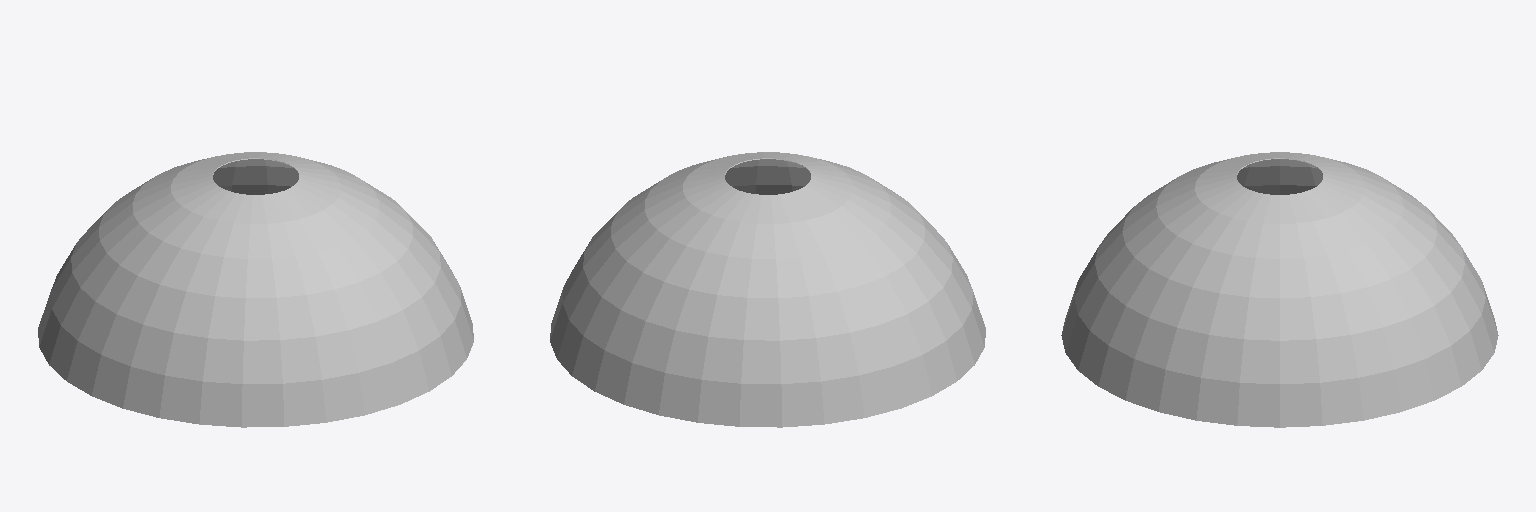
File: parachute_1m_simple.obj
The picture shows the model from 3 angles: view 1: azimuth 30°, elevation 25°; view 2: azimuth 150°, elevation 25°; view 3: azimuth 270°, elevation 25°; orthographic projection.
Visible parts, largest first — view 1: Sphere; view 2: Sphere; view 3: Sphere.
Part boxes in pixels (x1,y1,x2,y2): Sphere: (38, 152, 473, 427); Sphere: (550, 152, 985, 427); Sphere: (1061, 152, 1498, 427).
Size of the model in its own units: 1.98 by 0.7936 by 1.98.